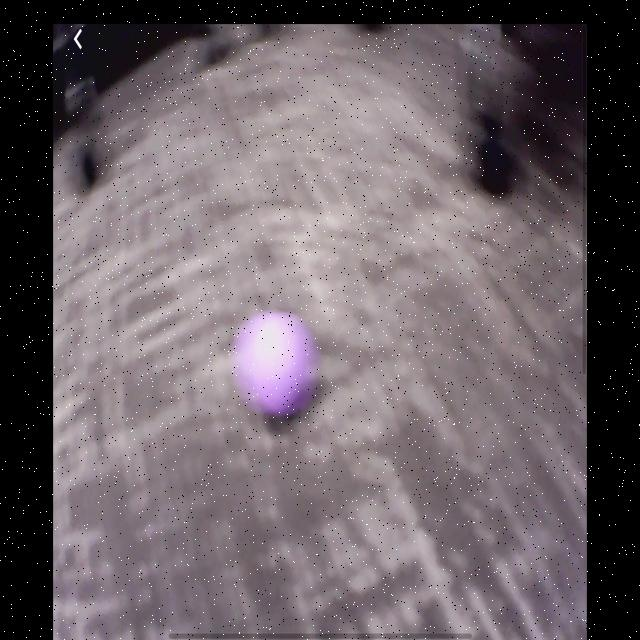ball: (231, 310, 323, 422)
